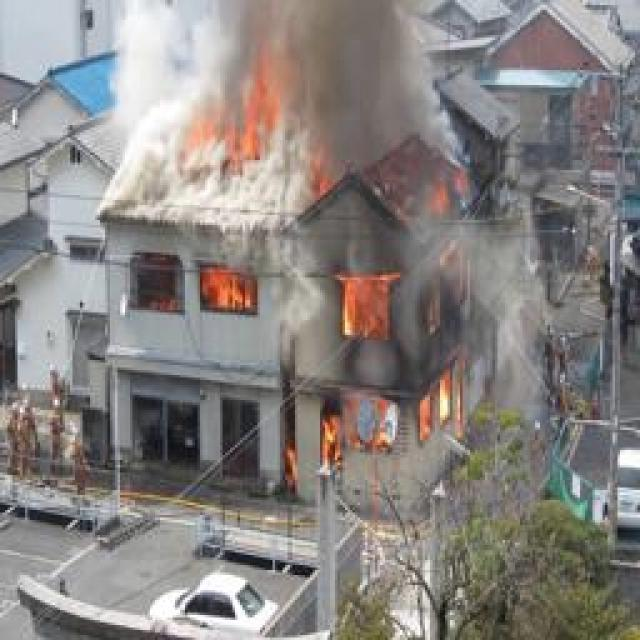Fire: (315, 148, 480, 475), (179, 53, 294, 164), (119, 264, 256, 317)
